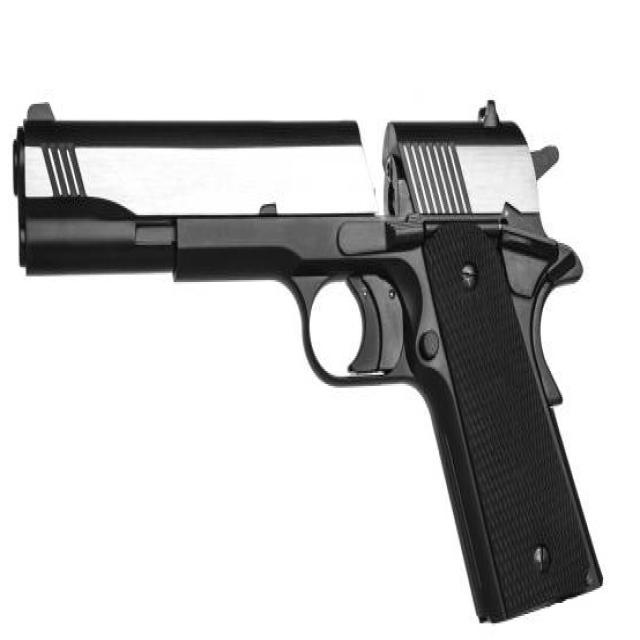pistol: (7, 90, 610, 634)
